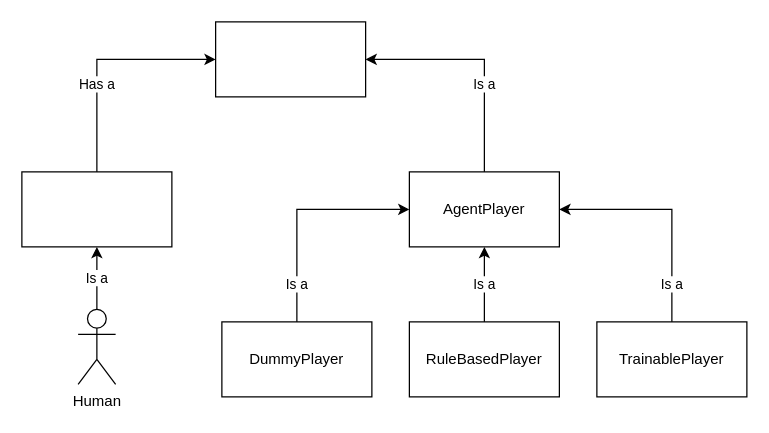
The diagram is 769 pixels wide and 433 high, and some of its shapes have lost their labels. Each missing label, with the centre of its shape:
"Client" belongs at point (96, 209).
"Player" belongs at point (290, 59).
